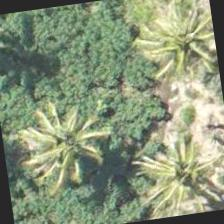Kelapa_Sawit: (0, 80, 99, 183), (136, 119, 223, 221), (137, 2, 222, 100)
